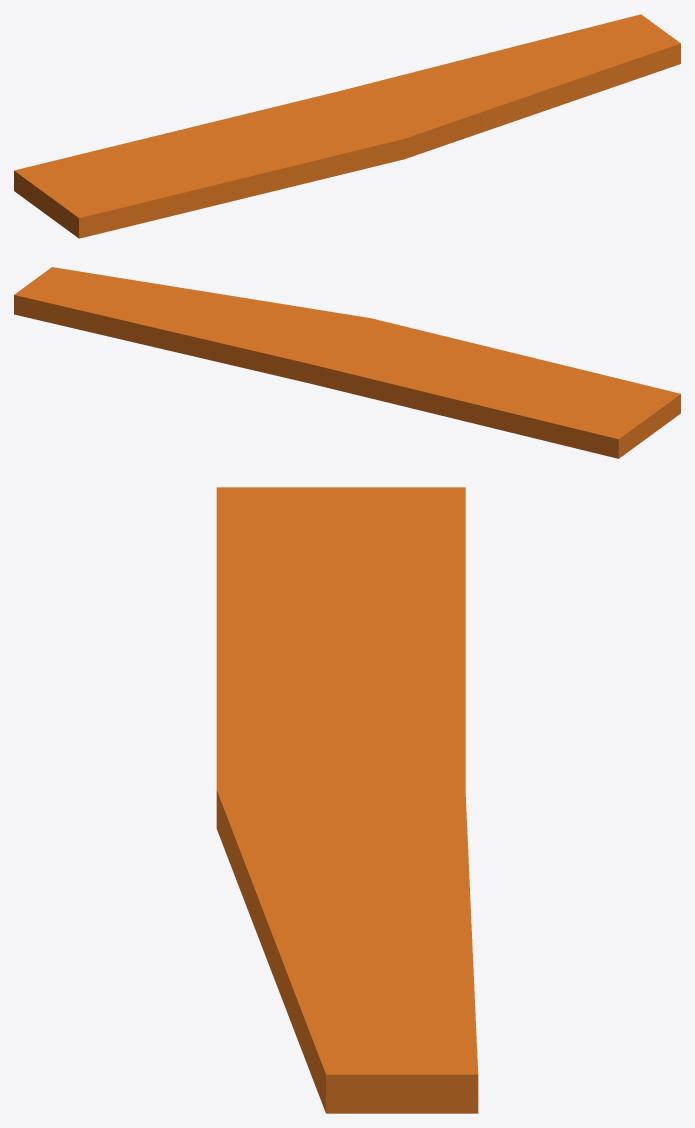
The model's file is Aileron.glb.
3 views of the same model, one above another, from view 1: azimuth 30°, elevation 25°; view 2: azimuth 150°, elevation 25°; view 3: azimuth 270°, elevation 25° (orthographic). The views are drawn at different scales.
Visible parts, largest first — view 1: Aileron; view 2: Aileron; view 3: Aileron.
Boxes of the visible parts, x1,y1,x2,y2 form: Aileron: [14, 14, 680, 238]; Aileron: [14, 267, 680, 458]; Aileron: [216, 487, 478, 1113].
Bounding box in the file's own units: 0.161 × 0.005 × 0.0303.
